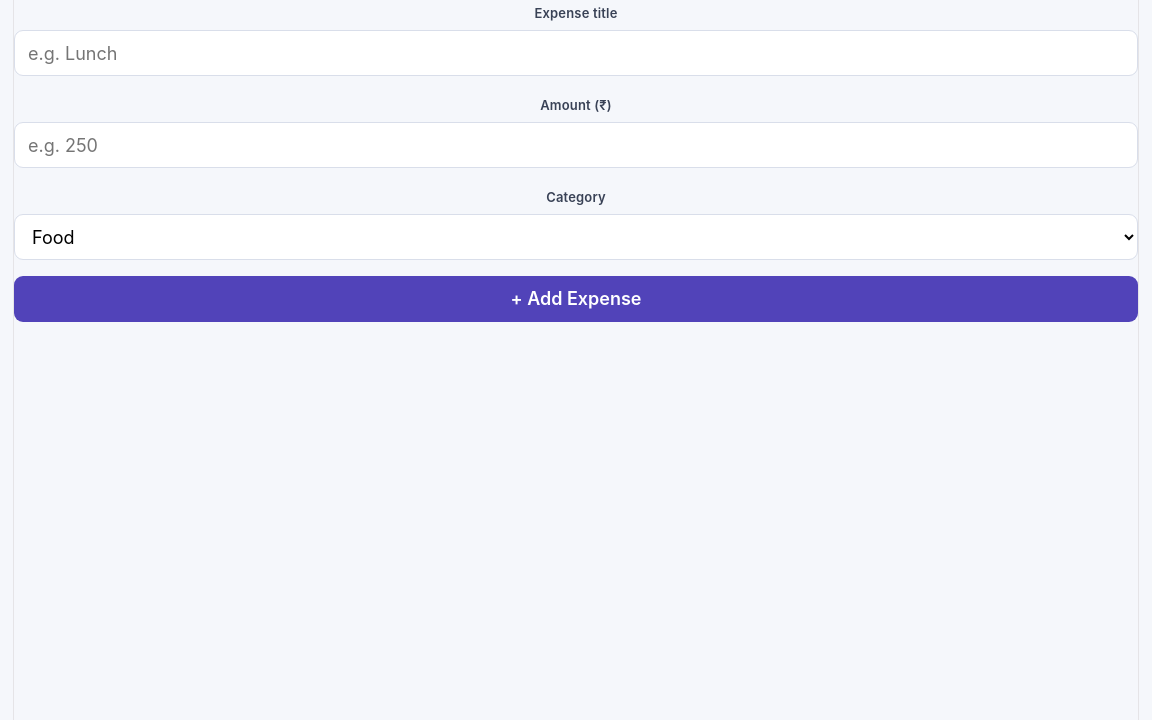
Test case: ExpenseForm › shows an error and does not submit when the title is empty
In the number field labelled "Amount (₹)": (576, 145) [14,122,1138,168], type "250"
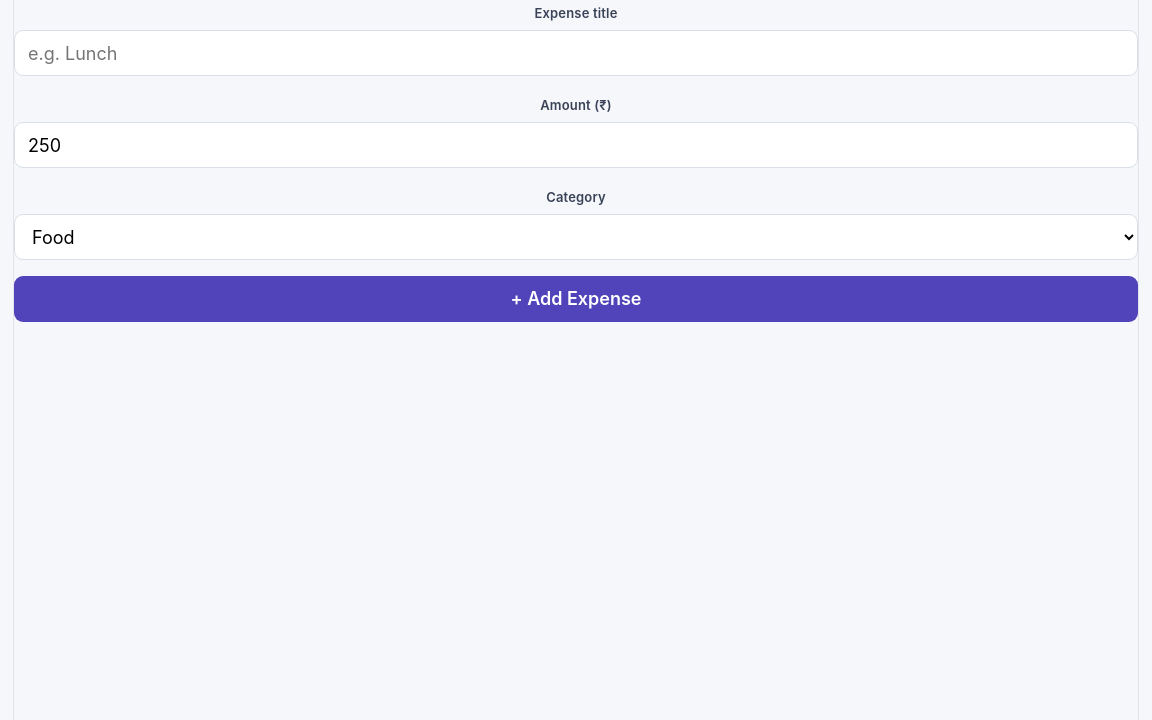
Click the button "+ Add Expense": (576, 299) [14,276,1138,322]
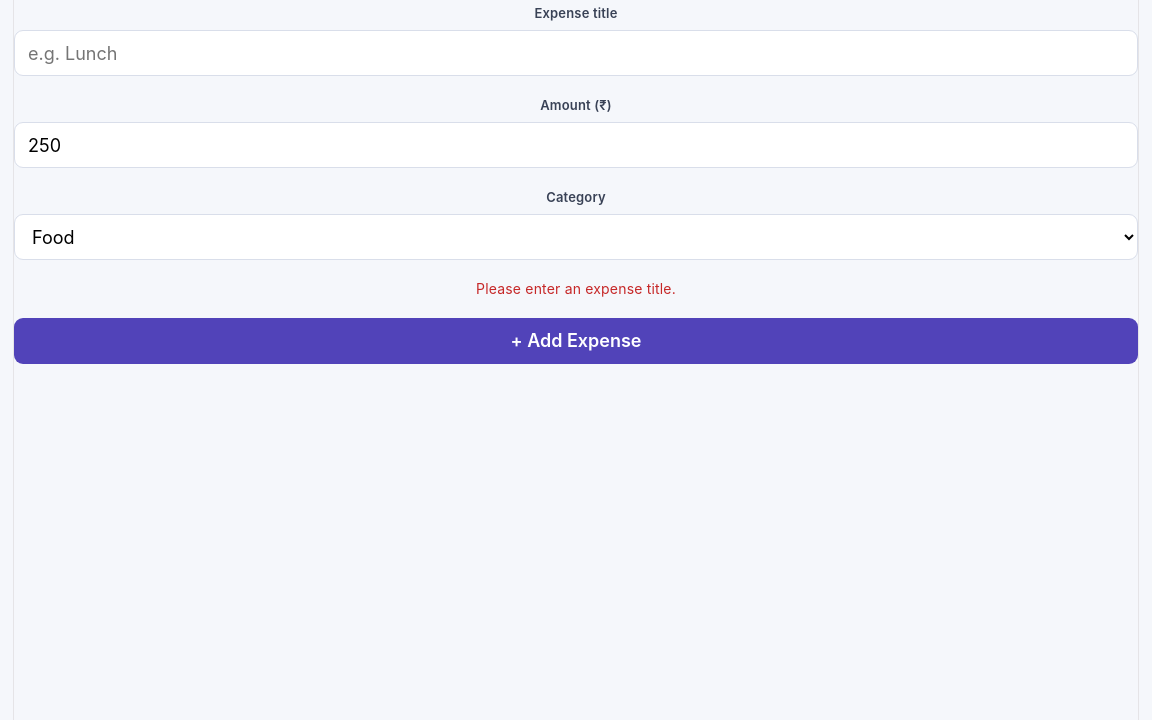
Now the message reads "Please enter an expense title.", box [476,280,676,297]
